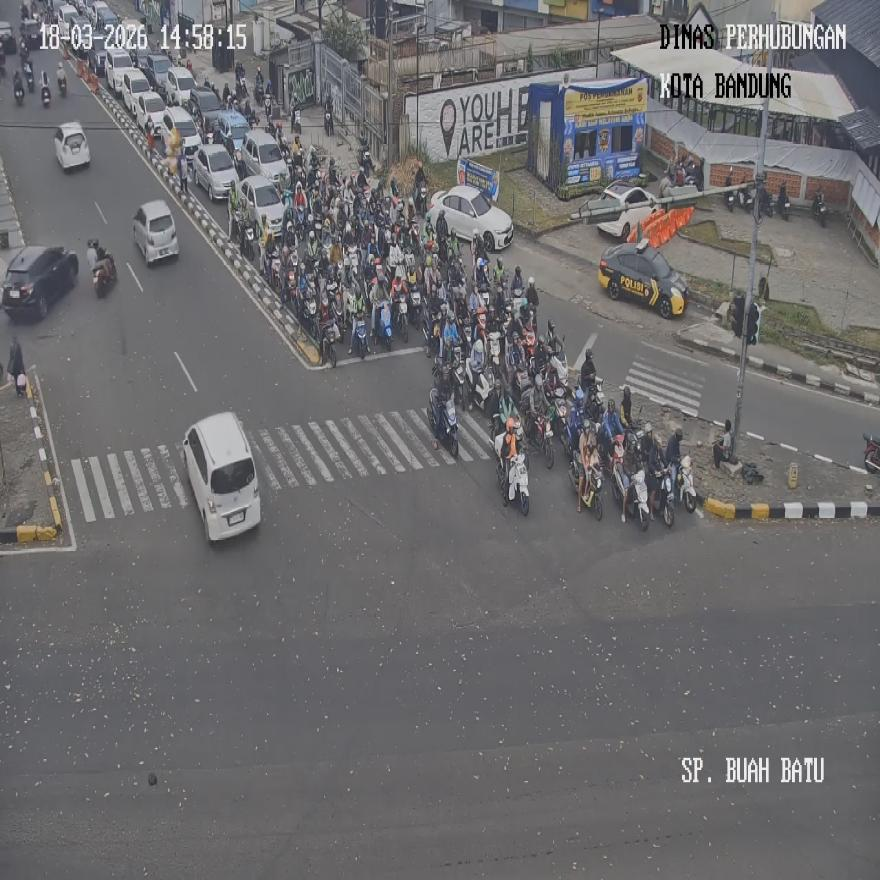Mobil: (182, 410, 261, 542), (598, 236, 690, 319), (0, 244, 78, 321), (132, 198, 178, 265)
Motor: (570, 451, 604, 518), (497, 446, 529, 516), (621, 467, 651, 530), (430, 391, 458, 457), (648, 463, 674, 526), (466, 359, 492, 412), (675, 454, 697, 514), (532, 411, 554, 468), (92, 252, 116, 297), (713, 421, 733, 470), (374, 300, 392, 350), (320, 319, 338, 368), (300, 293, 317, 341), (407, 282, 422, 335), (350, 317, 369, 358), (283, 264, 298, 312), (394, 290, 408, 341), (862, 431, 879, 473), (240, 215, 256, 259), (268, 256, 283, 300), (723, 166, 737, 212), (812, 190, 826, 228), (740, 181, 756, 214), (776, 185, 790, 221), (413, 182, 426, 218), (39, 70, 50, 108), (12, 72, 24, 106), (22, 61, 34, 92), (324, 108, 334, 136), (56, 70, 66, 96)
